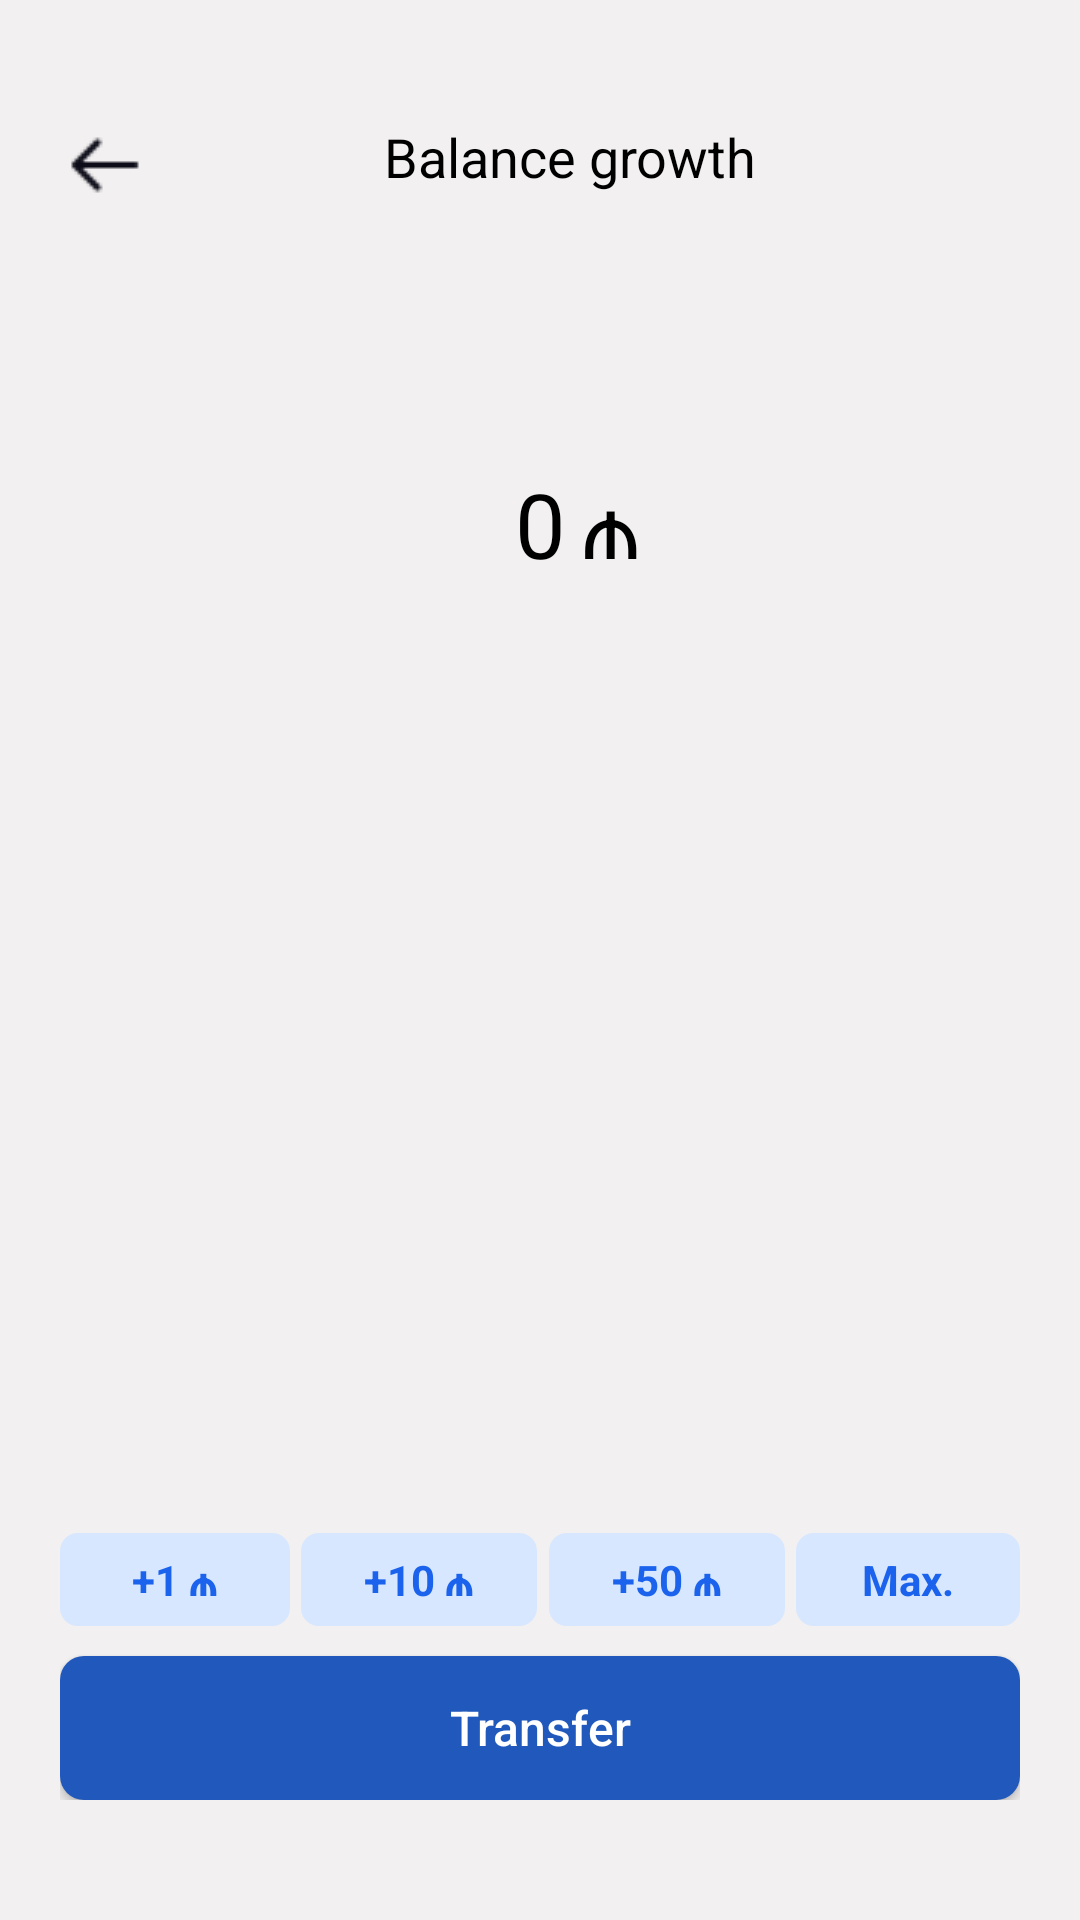

Icons on this 1080×1920 Android screen, each with the point to tap as [x,y]:
left: [105,165]
